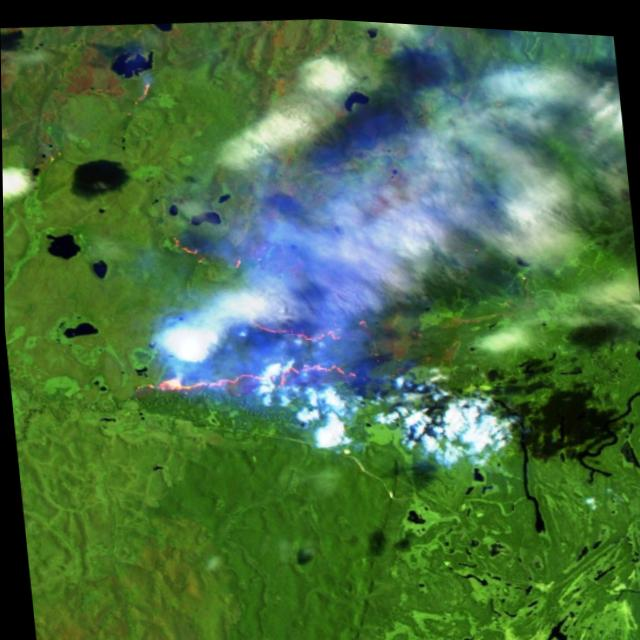fire: (110, 209, 382, 420)
